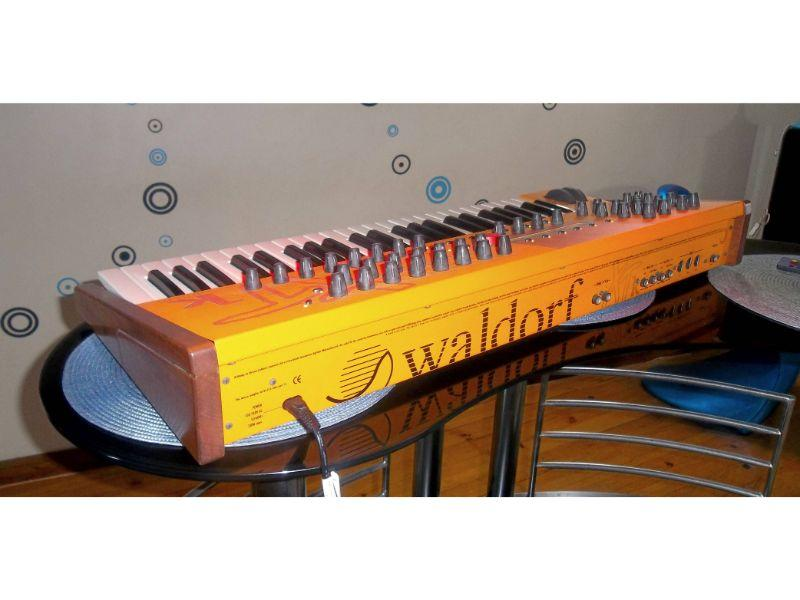synthesizer: (61, 181, 776, 464)
